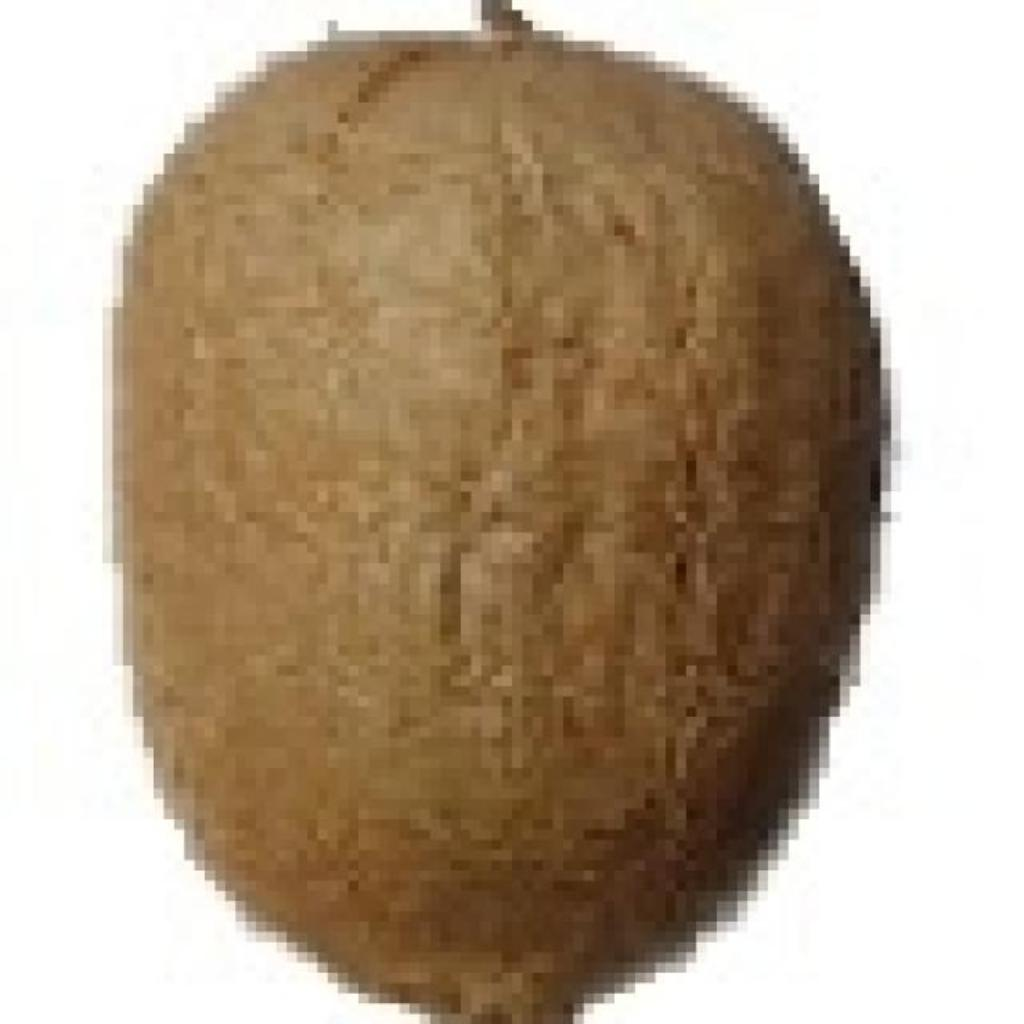kiwi: (113, 10, 860, 1004)
